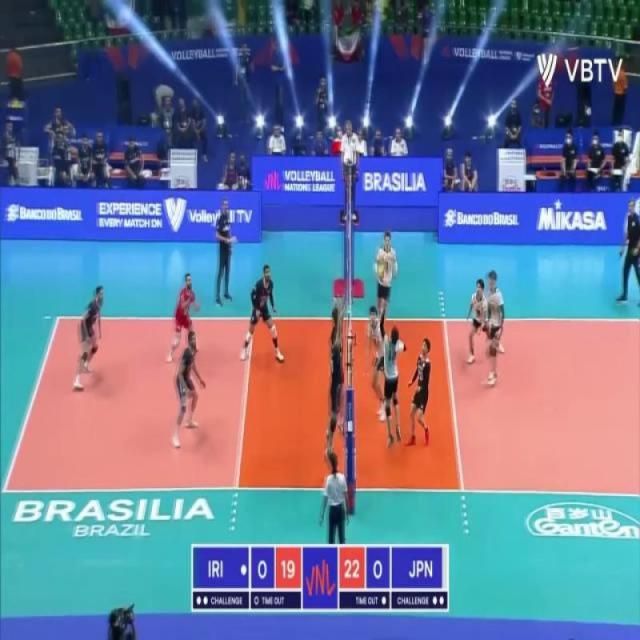volleyball: (376, 262, 387, 282)
